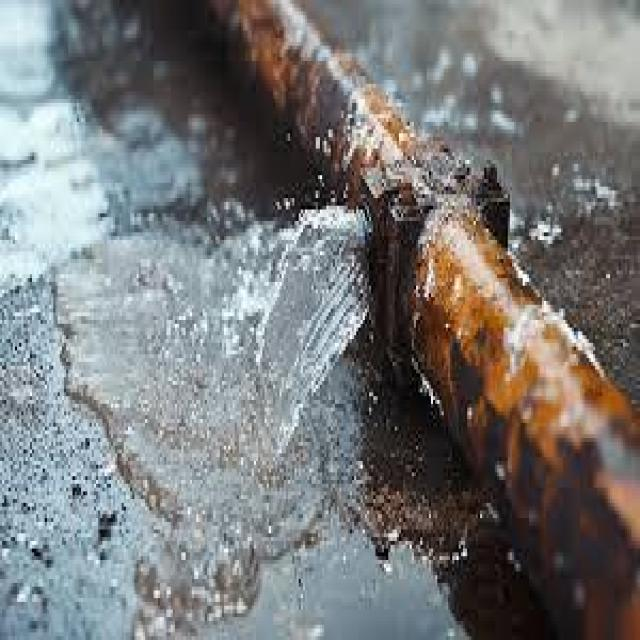Leak: (297, 164, 433, 346)
